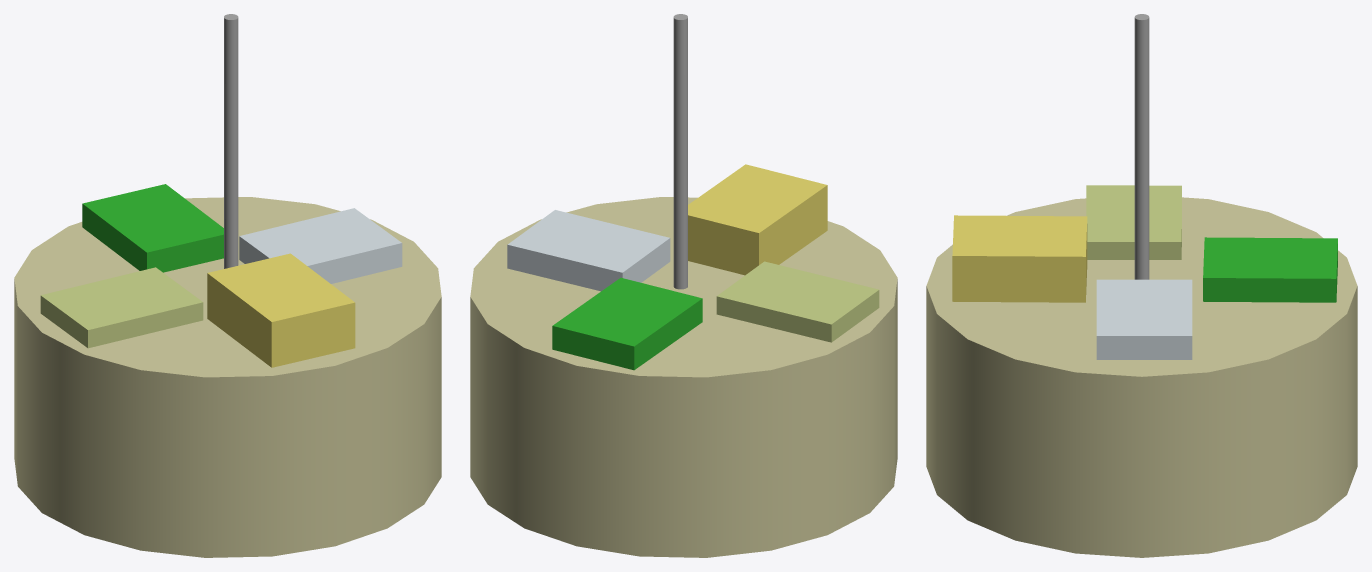
The model's file is Clothing Table 2.fbx.
3 renders of one model, left to right at view 1: azimuth 30°, elevation 25°; view 2: azimuth 150°, elevation 25°; view 3: azimuth 270°, elevation 25°, orthographic.
Parts seen in each view (by area): view 1: etale_sirculaire_vetement, pCube26, pCube24, pCube25, pCube23, pCylinder1; view 2: etale_sirculaire_vetement, pCube26, pCube24, pCube23, pCube25, pCylinder1; view 3: etale_sirculaire_vetement, pCube26, pCube24, pCube23, pCube25, pCylinder1.
Part boxes in pixels (bbox=[...]): etale_sirculaire_vetement: bbox=[14, 197, 441, 557]; pCube26: bbox=[207, 253, 355, 367]; pCube24: bbox=[82, 184, 223, 272]; pCube25: bbox=[40, 267, 203, 348]; pCube23: bbox=[239, 208, 402, 283]; pCylinder1: bbox=[224, 14, 238, 268]; etale_sirculaire_vetement: bbox=[470, 197, 897, 557]; pCube26: bbox=[688, 164, 827, 275]; pCube24: bbox=[552, 277, 702, 370]; pCube23: bbox=[507, 210, 670, 291]; pCube25: bbox=[716, 261, 879, 342]; pCylinder1: bbox=[673, 14, 687, 289]; etale_sirculaire_vetement: bbox=[926, 197, 1357, 557]; pCube26: bbox=[952, 215, 1087, 302]; pCube24: bbox=[1203, 237, 1337, 302]; pCube23: bbox=[1096, 279, 1192, 359]; pCube25: bbox=[1086, 185, 1181, 259]; pCylinder1: bbox=[1134, 14, 1149, 279].
Bounding box in the file's own units: 1.73 × 2 × 1.73.
